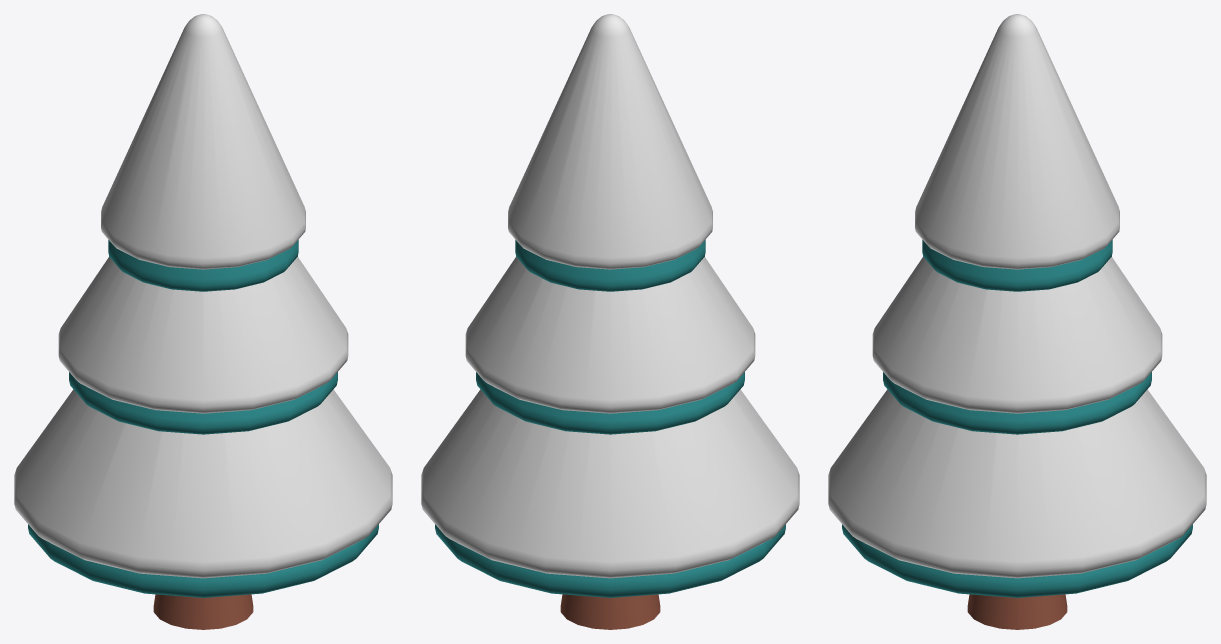
The model's file is tree_snow_low.gltf.glb.
3 views of the same model, side by side, from view 1: azimuth 30°, elevation 25°; view 2: azimuth 150°, elevation 25°; view 3: azimuth 270°, elevation 25° (orthographic).
Parts seen in each view (by area): view 1: tree_snow_low; view 2: tree_snow_low; view 3: tree_snow_low.
Boxes of the visible parts, bbox=[...] form: tree_snow_low: bbox=[14, 14, 392, 629]; tree_snow_low: bbox=[421, 14, 799, 629]; tree_snow_low: bbox=[828, 14, 1206, 629].
Bounding box in the file's own units: 1.74 × 2.96 × 1.71.
